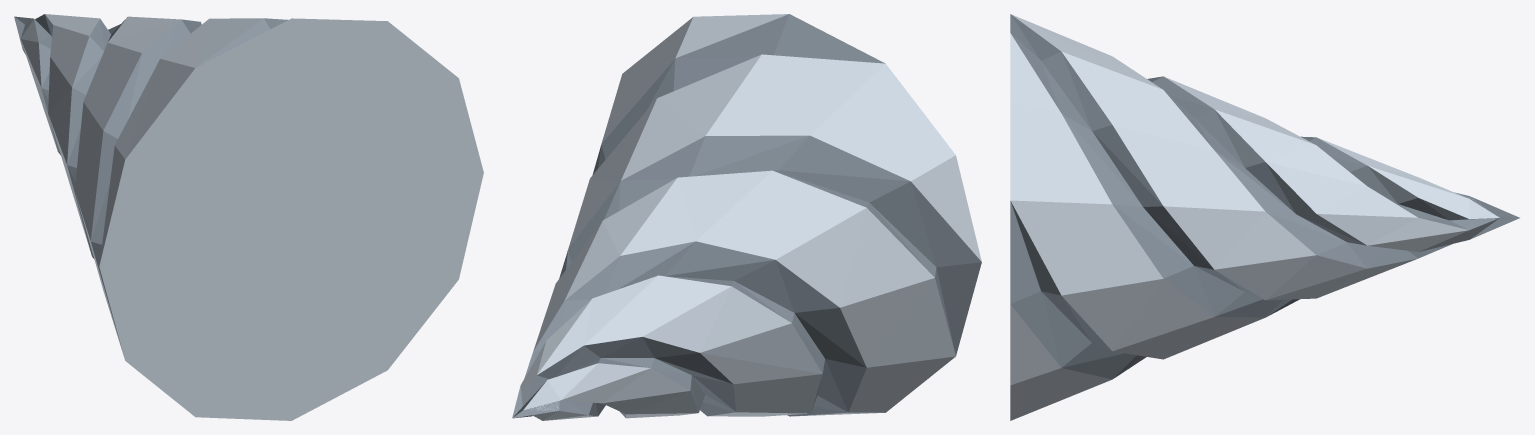
Rendered from dril.FBX.
3 renders of one model, left to right at view 1: azimuth 30°, elevation 25°; view 2: azimuth 150°, elevation 25°; view 3: azimuth 270°, elevation 25°, orthographic. The views are drawn at different scales.
Parts seen in each view (by area): view 1: VIFS002, VIFS001; view 2: VIFS002, VIFS001; view 3: VIFS002, VIFS001.
Boxes of the visible parts, x1=… form: VIFS002: x1=20, y1=14, x2=483, y2=420; VIFS001: x1=14, y1=14, x2=287, y2=352; VIFS002: x1=520, y1=14, x2=981, y2=420; VIFS001: x1=512, y1=14, x2=981, y2=418; VIFS002: x1=1010, y1=14, x2=1499, y2=420; VIFS001: x1=1010, y1=14, x2=1519, y2=379.
Bounding box in the file's own units: 0.4 × 0.4 × 0.5.
